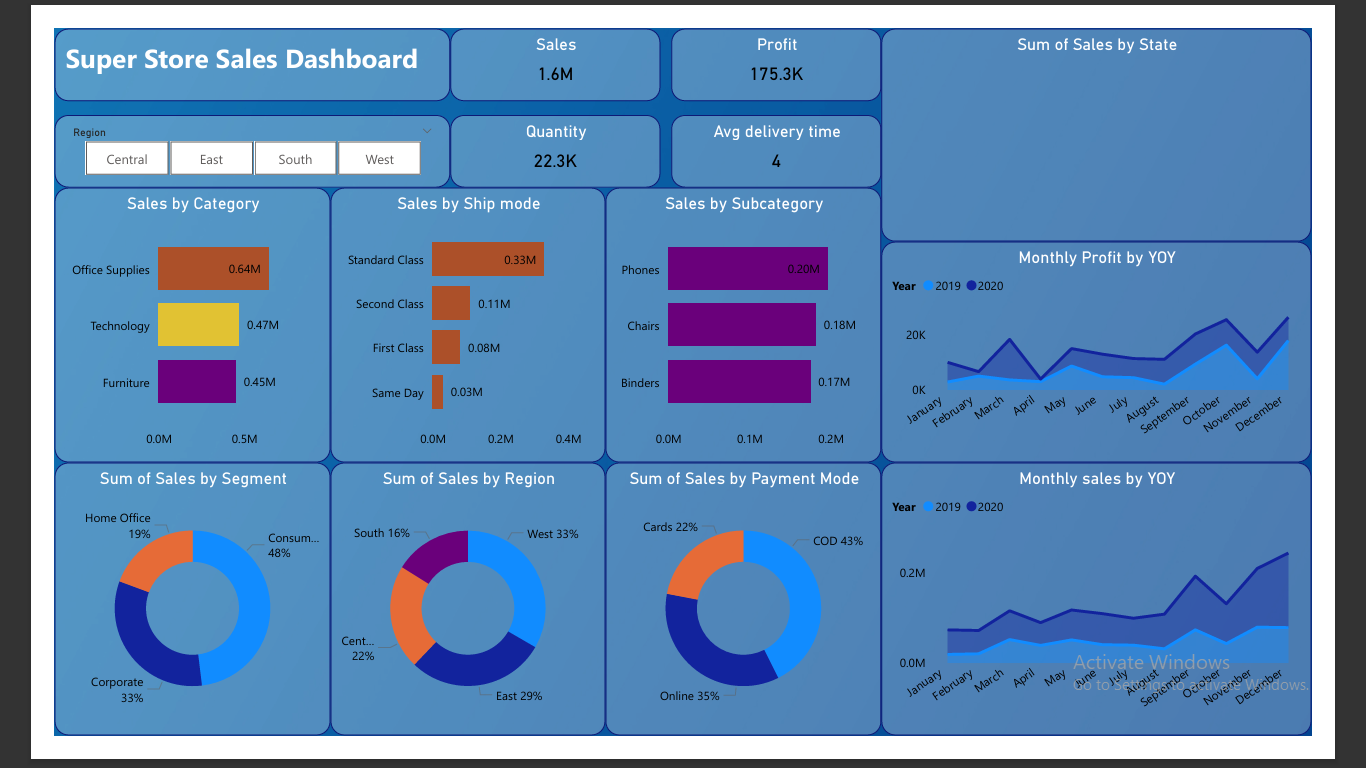

Layout of this report page (visuals, bound fields, positions):
{"tool":"powerbi","page":{"name":"Page 1","canvas":[1280,720],"ordinal":0},"visuals":[{"type":"clusteredBarChart","title":" Sales by Category","fields":{"Category":["SuperStore_Sales_Dataset.Category"],"Y":["Sum(SuperStore_Sales_Dataset.Sales)"]},"box":[0,161.6,280.6,280.6],"z":0},{"type":"clusteredBarChart","title":" Sales by Subcategory","fields":{"Y":["Sum(SuperStore_Sales_Dataset.Sales)"],"Category":["SuperStore_Sales_Dataset.Sub-Category"]},"box":[561.3,161.6,280.6,280.6],"z":1000},{"type":"clusteredBarChart","title":" Sales by Ship mode","fields":{"Y":["Sum(SuperStore_Sales_Dataset.Sales)"],"Category":["SuperStore_Sales_Dataset.Ship Mode"]},"box":[280.6,161.6,280.6,280.6],"z":2000},{"type":"stackedAreaChart","title":"Monthly sales by YOY","fields":{"Y":["Sum(SuperStore_Sales_Dataset.Sales)"],"Category":["SuperStore_Sales_Dataset.Order Date.Variation.Date Hierarchy.Month","SuperStore_Sales_Dataset.Order Date.Variation.Date Hierarchy.Day"],"Series":["SuperStore_Sales_Dataset.Order Date.Variation.Date Hierarchy.Year"]},"box":[841.9,442.2,438,277.8],"z":3000},{"type":"stackedAreaChart","title":"Monthly Profit by YOY","fields":{"Category":["SuperStore_Sales_Dataset.Order Date.Variation.Date Hierarchy.Month","SuperStore_Sales_Dataset.Order Date.Variation.Date Hierarchy.Day"],"Series":["SuperStore_Sales_Dataset.Order Date.Variation.Date Hierarchy.Year"],"Y":["Sum(SuperStore_Sales_Dataset.Profit)"]},"box":[841.9,216.9,438,225.4],"z":4000},{"type":"textbox","box":[0,0,402.5,73.7],"z":5000},{"type":"map","fields":{"Category":["SuperStore_Sales_Dataset.State"],"Size":["Sum(SuperStore_Sales_Dataset.Sales)"]},"box":[841.9,0,438,216.9],"z":6000},{"type":"donutChart","fields":{"Category":["SuperStore_Sales_Dataset.Segment"],"Y":["Sum(SuperStore_Sales_Dataset.Sales)"]},"box":[0,442.2,280.6,277.8],"z":7000},{"type":"slicer","fields":{"Values":["SuperStore_Sales_Dataset.Region"]},"box":[0,87.9,402.5,73.7],"z":8000},{"type":"donutChart","fields":{"Y":["Sum(SuperStore_Sales_Dataset.Sales)"],"Category":["SuperStore_Sales_Dataset.Region"]},"box":[280.6,442.2,280.6,277.8],"z":9000},{"type":"donutChart","fields":{"Y":["Sum(SuperStore_Sales_Dataset.Sales)"],"Category":["SuperStore_Sales_Dataset.Payment Mode"]},"box":[561.3,442.2,280.6,277.8],"z":10000},{"type":"card","title":"Sales","fields":{"Values":["Sum(SuperStore_Sales_Dataset.Sales)"]},"box":[402.5,0,214,73.7],"z":11000},{"type":"card","title":"Profit","fields":{"Values":["Sum(SuperStore_Sales_Dataset.Profit)"]},"box":[627.9,0,214,73.7],"z":12000},{"type":"card","title":"Quantity","fields":{"Values":["Sum(SuperStore_Sales_Dataset.Quantity)"]},"box":[402.5,87.9,214,73.7],"z":13000},{"type":"card","title":"Avg delivery time","fields":{"Values":["Avg(SuperStore_Sales_Dataset.Avgdelivery)"]},"box":[627.9,87.9,214,73.7],"z":14000}]}

Visuals, with their boxes in screenshot pixels (x1, y1, x2, y2), scaled from the page's 1280x720 canvas onto the 1366x768 screenshot:
" Sales by Category" clusteredBarChart: 0,172,299,472
" Sales by Subcategory" clusteredBarChart: 599,172,898,472
" Sales by Ship mode" clusteredBarChart: 299,172,599,472
"Monthly sales by YOY" stackedAreaChart: 898,472,1365,767
"Monthly Profit by YOY" stackedAreaChart: 898,231,1365,472
textbox: 0,0,430,79
map - SuperStore_Sales_Dataset.State x Sum(SuperStore_Sales_Dataset.Sales): 898,0,1365,231
donutChart - SuperStore_Sales_Dataset.Segment x Sum(SuperStore_Sales_Dataset.Sales): 0,472,299,767
slicer - SuperStore_Sales_Dataset.Region: 0,94,430,172
donutChart - Sum(SuperStore_Sales_Dataset.Sales) x SuperStore_Sales_Dataset.Region: 299,472,599,767
donutChart - Sum(SuperStore_Sales_Dataset.Sales) x SuperStore_Sales_Dataset.Payment Mode: 599,472,898,767
"Sales" card: 430,0,658,79
"Profit" card: 670,0,898,79
"Quantity" card: 430,94,658,172
"Avg delivery time" card: 670,94,898,172
